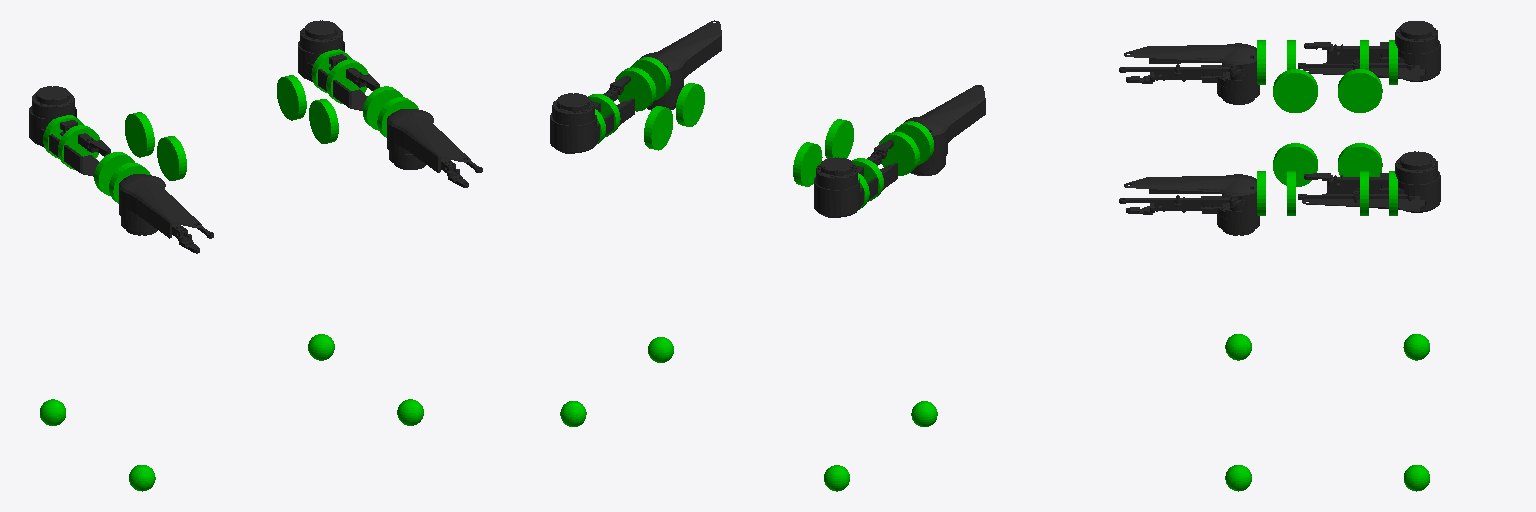
--- Render facts (derived) ---
3 views of the same robot in one strip: view 1: azimuth 30°, elevation 25°; view 2: azimuth 150°, elevation 25°; view 3: azimuth 270°, elevation 25° (orthographic).
Robot: b1_description — 31 links, 30 joints (12 revolute, 18 fixed); root link base; default pose: all joints at 0.
Links seen in each view (by area): view 1: FR_thigh, RR_thigh, RL_thigh, FL_thigh, RL_hip_rotor, RR_hip_rotor, FR_hip_rotor, FL_hip_rotor, RR_thigh_rotor, FR_thigh_rotor, FL_thigh_rotor, RL_thigh_rotor (+6 smaller); view 2: FL_thigh, RL_thigh, RR_thigh, FR_thigh, RR_thigh_rotor, FR_thigh_rotor, FL_hip_rotor, FR_hip_rotor, RL_hip_rotor, RR_hip_rotor, FR_calf_rotor, RR_calf_rotor (+4 smaller); view 3: RR_thigh, FR_thigh, FL_thigh, RL_thigh, RR_hip_rotor, RL_hip_rotor, FR_hip_rotor, FL_hip_rotor, RR_foot, FR_foot, RL_foot, FL_foot.
Boxes of the visible links, x1,y1,x2,y2 form: FR_thigh: [387, 109, 482, 187]; RR_thigh: [119, 174, 213, 253]; RL_thigh: [29, 86, 110, 176]; FL_thigh: [298, 20, 379, 110]; RL_hip_rotor: [125, 112, 154, 157]; RR_hip_rotor: [157, 136, 186, 180]; FR_hip_rotor: [309, 99, 338, 143]; FL_hip_rotor: [277, 75, 306, 120]; RR_thigh_rotor: [94, 152, 134, 195]; FR_thigh_rotor: [363, 86, 402, 130]; FL_thigh_rotor: [326, 60, 368, 103]; RL_thigh_rotor: [58, 125, 99, 169]; FL_thigh: [550, 76, 634, 153]; RL_thigh: [814, 140, 897, 217]; RR_thigh: [904, 85, 985, 175]; FR_thigh: [640, 20, 721, 110]; RR_thigh_rotor: [878, 132, 919, 175]; FR_thigh_rotor: [615, 67, 655, 111]; FL_hip_rotor: [644, 106, 672, 150]; FR_hip_rotor: [676, 83, 704, 126]; RL_hip_rotor: [793, 142, 822, 186]; RR_hip_rotor: [825, 119, 853, 158]; FR_calf_rotor: [630, 57, 670, 99]; RR_calf_rotor: [894, 121, 933, 164]; RR_thigh: [1119, 43, 1259, 104]; FR_thigh: [1119, 174, 1259, 235]; FL_thigh: [1298, 151, 1440, 212]; RL_thigh: [1298, 21, 1440, 81]; RR_hip_rotor: [1273, 69, 1317, 112]; RL_hip_rotor: [1338, 69, 1382, 112]; FR_hip_rotor: [1273, 143, 1317, 186]; FL_hip_rotor: [1338, 143, 1382, 176]; RR_foot: [1225, 334, 1251, 360]; FR_foot: [1225, 465, 1251, 491]; RL_foot: [1403, 334, 1429, 360]; FL_foot: [1404, 465, 1429, 491].
Bounding box of the posed robot: 0.7967 × 0.7168 × 0.817 m (x, y, z).
Meshes: 5 distinct files referenced, 4 mesh visuals loaded (2 Collada DAE); not drawn: 9 (reference not matched to a file when rendering).

robot.urdf — b1_description:
<?xml version="1.0" ?>
<robot name="b1_description">
  <material name="black">
    <color rgba="0.0 0.0 0.0 1.0"/>
  </material>
  <material name="blue">
    <color rgba="0.0 0.0 0.8 1.0"/>
  </material>
  <material name="green">
    <color rgba="0.0 0.8 0.0 1.0"/>
  </material>
  <material name="grey">
    <color rgba="0.2 0.2 0.2 1.0"/>
  </material>
  <material name="silver">
    <color rgba="0.9137254901960784 0.9137254901960784 0.8470588235294118 1.0"/>
  </material>
  <material name="orange">
    <color rgba="1.0 0.4235294117647059 0.0392156862745098 1.0"/>
  </material>
  <material name="brown">
    <color rgba="0.8705882352941177 0.8117647058823529 0.7647058823529411 1.0"/>
  </material>
  <material name="red">
    <color rgba="0.8 0.0 0.0 1.0"/>
  </material>
  <material name="white">
    <color rgba="1.0 1.0 1.0 1.0"/>
  </material>
  <link name="base">
    <visual>
      <origin rpy="0 0 0" xyz="0 0 0"/>
      <geometry>
        <box size="0.001 0.001 0.001"/>
      </geometry>
    </visual>
  </link>
  <joint name="floating_base" type="fixed">
    <origin rpy="0 0 0" xyz="0 0 0"/>
    <parent link="base"/>
    <child link="trunk"/>
  </joint>
  <link name="trunk">
    <visual>
      <origin rpy="-1.57 0 0" xyz="0 0 0"/>
      <geometry>
        <mesh filename="../meshes/trunk.dae" scale="1 1 1"/>
      </geometry>
      <material name="grey"/>
    </visual>
    <collision>
      <origin rpy="0 0 0" xyz="0 0 0"/>
      <geometry>
        <box size="0.647 0.3 0.15"/>
      </geometry>
    </collision>
    <inertial>
      <origin rpy="0 0 0" xyz="0.008987 0.002243 0.003013"/>
      <mass value="25"/>
      <inertia ixx="0.183142146" ixy="-0.001379002" ixz="-0.027956055" iyy="0.756327752" iyz="0.000193774" izz="0.783777558"/>
    </inertial>
  </link>
  <joint name="imu_joint" type="fixed">
    <parent link="trunk"/>
    <child link="imu_link"/>
    <origin rpy="0 0 0" xyz="0 0 0"/>
  </joint>
  <link name="imu_link">
    <inertial>
      <mass value="0.001"/>
      <origin rpy="0 0 0" xyz="0 0 0"/>
      <inertia ixx="0.0001" ixy="0" ixz="0" iyy="0.000001" iyz="0" izz="0.0001"/>
    </inertial>
    <visual>
      <origin rpy="0 0 0" xyz="0 0 0"/>
      <geometry>
        <box size="0.001 0.001 0.001"/>
      </geometry>
      <material name="red"/>
    </visual>
    <collision>
      <origin rpy="0 0 0" xyz="0 0 0"/>
      <geometry>
        <box size=".001 .001 .001"/>
      </geometry>
    </collision>
  </link>
  <joint name="FR_hip_joint" type="revolute">
    <origin rpy="0 0 0" xyz="0.3455 -0.072 0"/>
    <parent link="trunk"/>
    <child link="FR_hip"/>
    <axis xyz="1 0 0"/>
    <dynamics damping="0" friction="0"/>
    <limit effort="91.0035" lower="-6.28" upper="6.28" velocity="19.69"/>
  </joint>
  <joint name="FR_hip_rotor_joint" type="fixed">
    <origin rpy="0 0 0" xyz="0.1955 -0.072 0"/>
    <parent link="trunk"/>
    <child link="FR_hip_rotor"/>
  </joint>
  <link name="FR_hip">
    <visual>
      <origin rpy="1.57 0 0" xyz="0 0 0"/>
      <geometry>
        <mesh filename="../meshes/hip.dae" scale="1 1 1"/>
      </geometry>
      <material name="grey"/>
    </visual>
    <collision>
      <origin rpy="1.5707963267948966 0 0" xyz="0 -0.12675 0"/>
      <geometry>
        <cylinder length="0.04" radius="0.09"/>
      </geometry>
    </collision>
    <inertial>
      <origin rpy="0 0 0" xyz="-0.020298 -0.009758 0.000109"/>
      <mass value="2.1"/>
      <inertia ixx="0.00406608" ixy="0.000288071" ixz="-4.371e-06" iyy="0.008775259" iyz="-1.811e-06" izz="0.006060348"/>
    </inertial>
  </link>
  <link name="FR_hip_rotor">
    <visual>
      <origin rpy="0 1.5707963267948966 0" xyz="0 0 0"/>
      <geometry>
        <cylinder length="0.02" radius="0.05"/>
      </geometry>
      <material name="green"/>
    </visual>
    <collision>
      <origin rpy="0 1.5707963267948966 0" xyz="0 0 0"/>
      <geometry>
        <cylinder length="0.02" radius="0.05"/>
      </geometry>
    </collision>
    <inertial>
      <origin rpy="0 0 0" xyz="0.0 0.0 0.0"/>
      <mass value="0.199"/>
      <inertia ixx="0.00039249" ixy="0.0" ixz="0.0" iyy="0.000219397" iyz="0.0" izz="0.000219397"/>
    </inertial>
  </link>
  <joint name="FR_thigh_joint" type="revolute">
    <origin rpy="0 0 0" xyz="0 -0.12675 0"/>
    <parent link="FR_hip"/>
    <child link="FR_thigh"/>
    <axis xyz="0 1 0"/>
    <dynamics damping="0" friction="0"/>
    <limit effort="93.33" lower="-6.28" upper="6.28" velocity="23.32"/>
  </joint>
  <joint name="FR_thigh_rotor_joint" type="fixed">
    <origin rpy="0 0 0" xyz="0.0 -0.00935 0"/>
    <parent link="FR_hip"/>
    <child link="FR_thigh_rotor"/>
  </joint>
  <link name="FR_thigh">
    <visual>
      <origin rpy="-1.57 0 0" xyz="0 0 0"/>
      <geometry>
        <mesh filename="../meshes/thigh_mirror.dae" scale="1 1 1"/>
      </geometry>
      <material name="grey"/>
    </visual>
    <collision>
      <origin rpy="0 1.5707963267948966 0" xyz="0 0 -0.175"/>
      <geometry>
        <box size="0.35 0.05 0.08"/>
      </geometry>
    </collision>
    <inertial>
      <origin rpy="0 0 0" xyz="-0.000235 0.028704 -0.054169"/>
      <mass value="3.934"/>
      <inertia ixx="0.044459086" ixy="-0.000128738" ixz="-0.002343913" iyy="0.046023457" iyz="-0.006032996" izz="0.008696078"/>
    </inertial>
  </link>
  <link name="FR_thigh_rotor">
    <visual>
      <origin rpy="1.5707963267948966 0 0" xyz="0 0 0"/>
      <geometry>
        <cylinder length="0.02" radius="0.05"/>
      </geometry>
      <material name="green"/>
    </visual>
    <collision>
      <origin rpy="1.5707963267948966 0 0" xyz="0 0 0"/>
      <geometry>
        <cylinder length="0.02" radius="0.05"/>
      </geometry>
    </collision>
    <inertial>
      <origin rpy="0 0 0" xyz="0.0 0.0 0.0"/>
      <mass value="0.266"/>
      <inertia ixx="0.000485657" ixy="0.0" ixz="0.0" iyy="0.00091885" iyz="0.0" izz="0.000485657"/>
    </inertial>
  </link>
  <joint name="FR_calf_joint" type="revolute">
    <origin rpy="0 0 0" xyz="0 0 -0.35"/>
    <parent link="FR_thigh"/>
    <child link="FR_calf"/>
    <axis xyz="0 1 0"/>
    <dynamics damping="0" friction="0"/>
    <limit effort="140" lower="-6.28" upper="6.28" velocity="15.55"/>
  </joint>
  <joint name="FR_calf_rotor_joint" type="fixed">
    <origin rpy="0 0 0" xyz="0.0 0.0519 0"/>
    <parent link="FR_thigh"/>
    <child link="FR_calf_rotor"/>
  </joint>
  <link name="FR_calf">
    <visual>
      <origin rpy="-1.57 0 0" xyz="0 0 0"/>
      <geometry>
        <mesh filename="../meshes/calf.dae" scale="1 1 1"/>
      </geometry>
      <material name="grey"/>
    </visual>
    <collision>
      <origin rpy="0 1.5707963267948966 0" xyz="0 0 -0.175"/>
      <geometry>
        <box size="0.35 0.04 0.05"/>
      </geometry>
    </collision>
    <inertial>
      <origin rpy="0 0 0" xyz="0.005237 0.0 -0.202805"/>
      <mass value="0.857"/>
      <inertia ixx="0.015011003" ixy="5.2e-08" ixz="0.000250042" iyy="0.015159462" iyz="4.61e-07" izz="0.000375749"/>
    </inertial>
  </link>
  <link name="FR_calf_rotor">
    <visual>
      <origin rpy="1.5707963267948966 0 0" xyz="0 0 0"/>
      <geometry>
        <cylinder length="0.02" radius="0.05"/>
      </geometry>
      <material name="green"/>
    </visual>
    <collision>
      <origin rpy="1.5707963267948966 0 0" xyz="0 0 0"/>
      <geometry>
        <cylinder length="0.02" radius="0.05"/>
      </geometry>
    </collision>
    <inertial>
      <origin rpy="0 0 0" xyz="0.0 0.0 0.0"/>
      <mass value="0.266"/>
      <inertia ixx="0.000485657" ixy="0.0" ixz="0.0" iyy="0.00091885" iyz="0.0" izz="0.000485657"/>
    </inertial>
  </link>
  <joint name="FR_foot_fixed" type="fixed" dont_collapse="true">
    <origin rpy="0 0 0" xyz="0 0 -0.35"/>
    <parent link="FR_calf"/>
    <child link="FR_foot"/>
  </joint>
  <link name="FR_foot">
    <visual>
      <origin rpy="0 0 0" xyz="0 0 0"/>
      <geometry>
        <sphere radius="0.03"/>
      </geometry>
      <material name="green"/>
    </visual>
    <collision>
      <origin rpy="0 0 0" xyz="0 0 0"/>
      <geometry>
        <sphere radius="0.04"/>
      </geometry>
    </collision>
    <inertial>
      <mass value="0.05"/>
      <inertia ixx="3.2000000000000005e-05" ixy="0.0" ixz="0.0" iyy="3.2000000000000005e-05" iyz="0.0" izz="3.2000000000000005e-05"/>
    </inertial>
  </link>
  <joint name="FL_hip_joint" type="revolute">
    <origin rpy="0 0 0" xyz="0.3455 0.072 0"/>
    <parent link="trunk"/>
    <child link="FL_hip"/>
    <axis xyz="1 0 0"/>
    <dynamics damping="0" friction="0"/>
    <limit effort="91.0035" lower="-6.28" upper="6.28" velocity="19.69"/>
  </joint>
  <joint name="FL_hip_rotor_joint" type="fixed">
    <origin rpy="0 0 0" xyz="0.1955 0.072 0"/>
    <parent link="trunk"/>
    <child link="FL_hip_rotor"/>
  </joint>
  <link name="FL_hip">
    <visual>
      <origin rpy="-1.57 0 0" xyz="0 0 0"/>
      <geometry>
        <mesh filename="../meshes/hip.dae" scale="1 1 1"/>
      </geometry>
      <material name="grey"/>
    </visual>
    <collision>
      <origin rpy="1.5707963267948966 0 0" xyz="0 0.12675 0"/>
      <geometry>
        <cylinder length="0.04" radius="0.09"/>
      </geometry>
    </collision>
    <inertial>
      <origin rpy="0 0 0" xyz="-0.020298 0.009758 0.000109"/>
      <mass value="2.1"/>
      <inertia ixx="0.00406608" ixy="-0.000288071" ixz="-4.371e-06" iyy="0.008775259" iyz="1.811e-06" izz="0.006060348"/>
    </inertial>
  </link>
  <link name="FL_hip_rotor">
    <visual>
      <origin rpy="0 1.5707963267948966 0" xyz="0 0 0"/>
      <geometry>
        <cylinder length="0.02" radius="0.05"/>
      </geometry>
      <material name="green"/>
    </visual>
    <collision>
      <origin rpy="0 1.5707963267948966 0" xyz="0 0 0"/>
      <geometry>
        <cylinder length="0.02" radius="0.05"/>
      </geometry>
    </collision>
    <inertial>
      <origin rpy="0 0 0" xyz="0.0 0.0 0.0"/>
      <mass value="0.199"/>
      <inertia ixx="0.00039249" ixy="0.0" ixz="0.0" iyy="0.000219397" iyz="0.0" izz="0.000219397"/>
    </inertial>
  </link>
  <joint name="FL_thigh_joint" type="revolute">
    <origin rpy="0 0 0" xyz="0 0.12675 0"/>
    <parent link="FL_hip"/>
    <child link="FL_thigh"/>
    <axis xyz="0 1 0"/>
    <dynamics damping="0" friction="0"/>
    <limit effort="93.33" lower="-6.28" upper="6.28" velocity="23.32"/>
  </joint>
  <joint name="FL_thigh_rotor_joint" type="fixed">
    <origin rpy="0 0 0" xyz="0.0 0.00935 0"/>
    <parent link="FL_hip"/>
    <child link="FL_thigh_rotor"/>
  </joint>
  <link name="FL_thigh">
    <visual>
      <origin rpy="-1.57 0 0" xyz="0 0 0"/>
      <geometry>
        <mesh filename="../meshes/thigh.dae" scale="1 1 1"/>
      </geometry>
      <material name="grey"/>
    </visual>
    <collision>
      <origin rpy="0 1.5707963267948966 0" xyz="0 0 -0.175"/>
      <geometry>
        <box size="0.35 0.05 0.08"/>
      </geometry>
    </collision>
    <inertial>
      <origin rpy="0 0 0" xyz="-0.000235 -0.028704 -0.054169"/>
      <mass value="3.934"/>
      <inertia ixx="0.044459086" ixy="0.000128738" ixz="-0.002343913" iyy="0.046023457" iyz="0.006032996" izz="0.008696078"/>
    </inertial>
  </link>
  <link name="FL_thigh_rotor">
    <visual>
      <origin rpy="1.5707963267948966 0 0" xyz="0 0 0"/>
      <geometry>
        <cylinder length="0.02" radius="0.05"/>
      </geometry>
      <material name="green"/>
    </visual>
    <collision>
      <origin rpy="1.5707963267948966 0 0" xyz="0 0 0"/>
      <geometry>
        <cylinder length="0.02" radius="0.05"/>
      </geometry>
    </collision>
    <inertial>
      <origin rpy="0 0 0" xyz="0.0 0.0 0.0"/>
      <mass value="0.266"/>
      <inertia ixx="0.000485657" ixy="0.0" ixz="0.0" iyy="0.00091885" iyz="0.0" izz="0.000485657"/>
    </inertial>
  </link>
  <joint name="FL_calf_joint" type="revolute">
    <origin rpy="0 0 0" xyz="0 0 -0.35"/>
    <parent link="FL_thigh"/>
    <child link="FL_calf"/>
    <axis xyz="0 1 0"/>
    <dynamics damping="0" friction="0"/>
    <limit effort="140" lower="-6.28" upper="6.28" velocity="15.55"/>
  </joint>
  <joint name="FL_calf_rotor_joint" type="fixed">
    <origin rpy="0 0 0" xyz="0.0 -0.0519 0"/>
    <parent link="FL_thigh"/>
    <child link="FL_calf_rotor"/>
  </joint>
  <link name="FL_calf">
    <visual>
      <origin rpy="-1.57 0 0" xyz="0 0 0"/>
      <geometry>
        <mesh filename="../meshes/calf.dae" scale="1 1 1"/>
      </geometry>
      <material name="grey"/>
    </visual>
    <collision>
      <origin rpy="0 1.5707963267948966 0" xyz="0 0 -0.175"/>
      <geometry>
        <box size="0.35 0.04 0.05"/>
      </geometry>
    </collision>
    <inertial>
      <origin rpy="0 0 0" xyz="0.005237 0.0 -0.202805"/>
      <mass value="0.857"/>
      <inertia ixx="0.015011003" ixy="5.2e-08" ixz="0.000250042" iyy="0.015159462" iyz="4.61e-07" izz="0.000375749"/>
    </inertial>
  </link>
  <link name="FL_calf_rotor">
    <visual>
      <origin rpy="1.5707963267948966 0 0" xyz="0 0 0"/>
      <geometry>
        <cylinder length="0.02" radius="0.05"/>
      </geometry>
      <material name="green"/>
    </visual>
    <collision>
      <origin rpy="1.5707963267948966 0 0" xyz="0 0 0"/>
      <geometry>
        <cylinder length="0.02" radius="0.05"/>
      </geometry>
    </collision>
    <inertial>
      <origin rpy="0 0 0" xyz="0.0 0.0 0.0"/>
      <mass value="0.266"/>
      <inertia ixx="0.000485657" ixy="0.0" ixz="0.0" iyy="0.00091885" iyz="0.0" izz="0.000485657"/>
    </inertial>
  </link>
  <joint name="FL_foot_fixed" type="fixed" dont_collapse="true">
    <origin rpy="0 0 0" xyz="0 0 -0.35"/>
    <parent link="FL_calf"/>
    <child link="FL_foot"/>
  </joint>
  <link name="FL_foot">
    <visual>
      <origin rpy="0 0 0" xyz="0 0 0"/>
      <geometry>
        <sphere radius="0.03"/>
      </geometry>
      <material name="green"/>
    </visual>
    <collision>
      <origin rpy="0 0 0" xyz="0 0 0"/>
      <geometry>
        <sphere radius="0.04"/>
      </geometry>
    </collision>
    <inertial>
      <mass value="0.05"/>
      <inertia ixx="3.2000000000000005e-05" ixy="0.0" ixz="0.0" iyy="3.2000000000000005e-05" iyz="0.0" izz="3.2000000000000005e-05"/>
    </inertial>
  </link>

  <joint name="RR_hip_joint" type="revolute">
    <origin rpy="0 0 0" xyz="-0.3455 -0.072 0"/>
    <parent link="trunk"/>
    <child link="RR_hip"/>
    <axis xyz="1 0 0"/>
    <dynamics damping="0" friction="0"/>
    <limit effort="91.0035" lower="-6.28" upper="6.28" velocity="19.69"/>
  </joint>
  <joint name="RR_hip_rotor_joint" type="fixed">
    <origin rpy="0 0 0" xyz="-0.1955 -0.072 0"/>
    <parent link="trunk"/>
    <child link="RR_hip_rotor"/>
  </joint>
  <link name="RR_hip">
    <visual>
      <origin rpy="1.57 3.141592653589793 0" xyz="0 0 0"/>
      <geometry>
        <mesh filename="../meshes/hip.dae" scale="1 1 1"/>
      </geometry>
      <material name="grey"/>
    </visual>
    <collision>
      <origin rpy="1.5707963267948966 0 0" xyz="0 -0.12675 0"/>
      <geometry>
        <cylinder length="0.04" radius="0.09"/>
      </geometry>
    </collision>
    <inertial>
      <origin rpy="0 0 0" xyz="0.020298 -0.009758 0.000109"/>
      <mass value="2.1"/>
      <inertia ixx="0.00406608" ixy="-0.000288071" ixz="4.371e-06" iyy="0.008775259" iyz="-1.811e-06" izz="0.006060348"/>
    </inertial>
  </link>
  <link name="RR_hip_rotor">
    <visual>
      <origin rpy="0 1.5707963267948966 0" xyz="0 0 0"/>
      <geometry>
        <cylinder length="0.02" radius="0.05"/>
      </geometry>
      <material name="green"/>
    </visual>
    <collision>
      <origin rpy="0 1.5707963267948966 0" xyz="0 0 0"/>
      <geometry>
        <cylinder length="0.02" radius="0.05"/>
      </geometry>
    </collision>
    <inertial>
      <origin rpy="0 0 0" xyz="0.0 0.0 0.0"/>
      <mass value="0.199"/>
      <inertia ixx="0.00039249" ixy="0.0" ixz="0.0" iyy="0.000219397" iyz="0.0" izz="0.000219397"/>
    </inertial>
  </link>
  <joint name="RR_thigh_joint" type="revolute">
    <origin rpy="0 0 0" xyz="0 -0.12675 0"/>
    <parent link="RR_hip"/>
    <child link="RR_thigh"/>
    <axis xyz="0 1 0"/>
    <dynamics damping="0" friction="0"/>
    <limit effort="93.33" lower="-6.28" upper="6.28" velocity="23.32"/>
  </joint>
  <joint name="RR_thigh_rotor_joint" type="fixed">
    <origin rpy="0 0 0" xyz="0.0 -0.00935 0"/>
    <parent link="RR_hip"/>
    <child link="RR_thigh_rotor"/>
  </joint>
  <link name="RR_thigh">
    <visual>
      <origin rpy="-1.57 0 0" xyz="0 0 0"/>
      <geometry>
        <mesh filename="../meshes/thigh_mirror.dae" scale="1 1 1"/>
      </geometry>
      <material name="grey"/>
    </visual>
    <collision>
      <origin rpy="0 1.5707963267948966 0" xyz="0 0 -0.175"/>
      <geometry>
        <box size="0.35 0.05 0.08"/>
      </geometry>
    </collision>
    <inertial>
      <origin rpy="0 0 0" xyz="-0.000235 0.028704 -0.054169"/>
      <mass value="3.934"/>
      <inertia ixx="0.044459086" ixy="-0.000128738" ixz="-0.002343913" iyy="0.046023457" iyz="-0.006032996" izz="0.008696078"/>
    </inertial>
  </link>
  <link name="RR_thigh_rotor">
    <visual>
      <origin rpy="1.5707963267948966 0 0" xyz="0 0 0"/>
      <geometry>
        <cylinder length="0.02" radius="0.05"/>
      </geometry>
      <material name="green"/>
    </visual>
    <collision>
      <origin rpy="1.5707963267948966 0 0" xyz="0 0 0"/>
      <geometry>
        <cylinder length="0.02" radius="0.05"/>
      </geometry>
    </collision>
    <inertial>
      <origin rpy="0 0 0" xyz="0.0 0.0 0.0"/>
      <mass value="0.266"/>
      <inertia ixx="0.000485657" ixy="0.0" ixz="0.0" iyy="0.00091885" iyz="0.0" izz="0.000485657"/>
    </inertial>
  </link>
  <joint name="RR_calf_joint" type="revolute">
    <origin rpy="0 0 0" xyz="0 0 -0.35"/>
    <parent link="RR_thigh"/>
    <child link="RR_calf"/>
    <axis xyz="0 1 0"/>
    <dynamics damping="0" friction="0"/>
    <limit effort="140" lower="-6.28" upper="6.28" velocity="15.55"/>
  </joint>
  <joint name="RR_calf_rotor_joint" type="fixed">
    <origin rpy="0 0 0" xyz="0.0 0.0519 0"/>
    <parent link="RR_thigh"/>
    <child link="RR_calf_rotor"/>
  </joint>
  <link name="RR_calf">
    <visual>
      <origin rpy="-1.57 0 0" xyz="0 0 0"/>
      <geometry>
        <mesh filename="../meshes/calf.dae" scale="1 1 1"/>
      </geometry>
      <material name="grey"/>
    </visual>
    <collision>
      <origin rpy="0 1.5707963267948966 0" xyz="0 0 -0.175"/>
      <geometry>
        <box size="0.35 0.04 0.05"/>
      </geometry>
    </collision>
    <inertial>
      <origin rpy="0 0 0" xyz="0.005237 0.0 -0.202805"/>
      <mass value="0.857"/>
      <inertia ixx="0.015011003" ixy="5.2e-08" ixz="0.000250042" iyy="0.015159462" iyz="4.61e-07" izz="0.000375749"/>
    </inertial>
  </link>
  <link name="RR_calf_rotor">
    <visual>
      <origin rpy="1.5707963267948966 0 0" xyz="0 0 0"/>
      <geometry>
        <cylinder length="0.02" radius="0.05"/>
      </geometry>
      <material name="green"/>
    </visual>
    <collision>
      <origin rpy="1.5707963267948966 0 0" xyz="0 0 0"/>
      <geometry>
        <cylinder length="0.02" radius="0.05"/>
      </geometry>
    </collision>
    <inertial>
      <origin rpy="0 0 0" xyz="0.0 0.0 0.0"/>
      <mass value="0.266"/>
      <inertia ixx="0.000485657" ixy="0.0" ixz="0.0" iyy="0.00091885" iyz="0.0" izz="0.000485657"/>
    </inertial>
  </link>
  <joint name="RR_foot_fixed" type="fixed" dont_collapse="true">
    <origin rpy="0 0 0" xyz="0 0 -0.35"/>
    <parent link="RR_calf"/>
    <child link="RR_foot"/>
  </joint>
  <link name="RR_foot">
    <visual>
      <origin rpy="0 0 0" xyz="0 0 0"/>
      <geometry>
        <sphere radius="0.03"/>
      </geometry>
      <material name="green"/>
    </visual>
    <collision>
      <origin rpy="0 0 0" xyz="0 0 0"/>
      <geometry>
        <sphere radius="0.04"/>
      </geometry>
    </collision>
    <inertial>
      <mass value="0.05"/>
      <inertia ixx="3.2000000000000005e-05" ixy="0.0" ixz="0.0" iyy="3.2000000000000005e-05" iyz="0.0" izz="3.2000000000000005e-05"/>
    </inertial>
  </link>

  <joint name="RL_hip_joint" type="revolute">
    <origin rpy="0 0 0" xyz="-0.3455 0.072 0"/>
    <parent link="trunk"/>
    <child link="RL_hip"/>
    <axis xyz="1 0 0"/>
    <dynamics damping="0" friction="0"/>
    <limit effort="91.0035" lower="-6.28" upper="6.28" velocity="19.69"/>
  </joint>
  <joint name="RL_hip_rotor_joint" type="fixed">
    <origin rpy="0 0 0" xyz="-0.1955 0.072 0"/>
    <parent link="trunk"/>
    <child link="RL_hip_rotor"/>
  </joint>
  <link name="RL_hip">
    <visual>
      <origin rpy="-1.57 3.141592653589793 0" xyz="0 0 0"/>
      <geometry>
        <mesh filename="../meshes/hip.dae" scale="1 1 1"/>
      </geometry>
      <material name="grey"/>
    </visual>
    <collision>
      <origin rpy="1.5707963267948966 0 0" xyz="0 0.12675 0"/>
      <geometry>
        <cylinder length="0.04" radius="0.09"/>
      </geometry>
    </collision>
    <inertial>
      <origin rpy="0 0 0" xyz="0.020298 0.009758 0.000109"/>
      <mass value="2.1"/>
      <inertia ixx="0.00406608" ixy="0.000288071" ixz="4.371e-06" iyy="0.008775259" iyz="1.811e-06" izz="0.006060348"/>
    </inertial>
  </link>
  <link name="RL_hip_rotor">
    <visual>
      <origin rpy="0 1.5707963267948966 0" xyz="0 0 0"/>
      <geometry>
        <cylinder length="0.02" radius="0.05"/>
      </geometry>
      <material name="green"/>
    </visual>
    <collision>
      <origin rpy="0 1.5707963267948966 0" xyz="0 0 0"/>
      <geometry>
        <cylinder length="0.02" radius="0.05"/>
      </geometry>
    </collision>
    <inertial>
      <origin rpy="0 0 0" xyz="0.0 0.0 0.0"/>
      <mass value="0.199"/>
      <inertia ixx="0.00039249" ixy="0.0" ixz="0.0" iyy="0.000219397" iyz="0.0" izz="0.000219397"/>
    </inertial>
  </link>
  <joint name="RL_thigh_joint" type="revolute">
    <origin rpy="0 0 0" xyz="0 0.12675 0"/>
    <parent link="RL_hip"/>
    <child link="RL_thigh"/>
    <axis xyz="0 1 0"/>
    <dynamics damping="0" friction="0"/>
    <limit effort="93.33" lower="-6.28" upper="6.28" velocity="23.32"/>
  </joint>
  <joint name="RL_thigh_rotor_joint" type="fixed">
    <origin rpy="0 0 0" xyz="0.0 0.00935 0"/>
    <parent link="RL_hip"/>
    <child link="RL_thigh_rotor"/>
  </joint>
  <link name="RL_thigh">
    <visual>
      <origin rpy="-1.57 0 0" xyz="0 0 0"/>
      <geometry>
        <mesh filename="../meshes/thigh.dae" scale="1 1 1"/>
      </geometry>
      <material name="grey"/>
    </visual>
    <collision>
      <origin rpy="0 1.5707963267948966 0" xyz="0 0 -0.175"/>
      <geometry>
        <box size="0.35 0.05 0.08"/>
      </geometry>
    </collision>
    <inertial>
      <origin rpy="0 0 0" xyz="-0.000235 -0.028704 -0.054169"/>
      <mass value="3.934"/>
      <inertia ixx="0.044459086" ixy="0.000128738" ixz="-0.002343913" iyy="0.046023457" iyz="0.006032996" izz="0.008696078"/>
    </inertial>
  </link>
  <link name="RL_thigh_rotor">
    <visual>
      <origin rpy="1.5707963267948966 0 0" xyz="0 0 0"/>
      <geometry>
        <cylinder length="0.02" radius="0.05"/>
      </geometry>
      <material name="green"/>
    </visual>
    <collision>
      <origin rpy="1.5707963267948966 0 0" xyz="0 0 0"/>
      <geometry>
        <cylinder length="0.02" radius="0.05"/>
      </geometry>
    </collision>
    <inertial>
      <origin rpy="0 0 0" xyz="0.0 0.0 0.0"/>
      <mass value="0.266"/>
      <inertia ixx="0.000485657" ixy="0.0" ixz="0.0" iyy="0.00091885" iyz="0.0" izz="0.000485657"/>
    </inertial>
  </link>
  <joint name="RL_calf_joint" type="revolute">
    <origin rpy="0 0 0" xyz="0 0 -0.35"/>
    <parent link="RL_thigh"/>
    <child link="RL_calf"/>
    <axis xyz="0 1 0"/>
    <dynamics damping="0" friction="0"/>
    <limit effort="140" lower="-6.28" upper="6.28" velocity="15.55"/>
  </joint>
  <joint name="RL_calf_rotor_joint" type="fixed">
    <origin rpy="0 0 0" xyz="0.0 -0.0519 0"/>
    <parent link="RL_thigh"/>
    <child link="RL_calf_rotor"/>
  </joint>
  <link name="RL_calf">
    <visual>
      <origin rpy="-1.57 0 0" xyz="0 0 0"/>
      <geometry>
        <mesh filename="../meshes/calf.dae" scale="1 1 1"/>
      </geometry>
      <material name="grey"/>
    </visual>
    <collision>
      <origin rpy="0 1.5707963267948966 0" xyz="0 0 -0.175"/>
      <geometry>
        <box size="0.35 0.04 0.05"/>
      </geometry>
    </collision>
    <inertial>
      <origin rpy="0 0 0" xyz="0.005237 0.0 -0.202805"/>
      <mass value="0.857"/>
      <inertia ixx="0.015011003" ixy="5.2e-08" ixz="0.000250042" iyy="0.015159462" iyz="4.61e-07" izz="0.000375749"/>
    </inertial>
  </link>
  <link name="RL_calf_rotor">
    <visual>
      <origin rpy="1.5707963267948966 0 0" xyz="0 0 0"/>
      <geometry>
        <cylinder length="0.02" radius="0.05"/>
      </geometry>
      <material name="green"/>
    </visual>
    <collision>
      <origin rpy="1.5707963267948966 0 0" xyz="0 0 0"/>
      <geometry>
        <cylinder length="0.02" radius="0.05"/>
      </geometry>
    </collision>
    <inertial>
      <origin rpy="0 0 0" xyz="0.0 0.0 0.0"/>
      <mass value="0.266"/>
      <inertia ixx="0.000485657" ixy="0.0" ixz="0.0" iyy="0.00091885" iyz="0.0" izz="0.000485657"/>
    </inertial>
  </link>
  <joint name="RL_foot_fixed" type="fixed" dont_collapse="true">
    <origin rpy="0 0 0" xyz="0 0 -0.35"/>
    <parent link="RL_calf"/>
    <child link="RL_foot"/>
  </joint>
  <link name="RL_foot">
    <visual>
      <origin rpy="0 0 0" xyz="0 0 0"/>
      <geometry>
        <sphere radius="0.03"/>
      </geometry>
      <material name="green"/>
    </visual>
    <collision>
      <origin rpy="0 0 0" xyz="0 0 0"/>
      <geometry>
        <sphere radius="0.04"/>
      </geometry>
    </collision>
    <inertial>
      <mass value="0.05"/>
      <inertia ixx="3.2000000000000005e-05" ixy="0.0" ixz="0.0" iyy="3.2000000000000005e-05" iyz="0.0" izz="3.2000000000000005e-05"/>
    </inertial>
  </link>
</robot>
